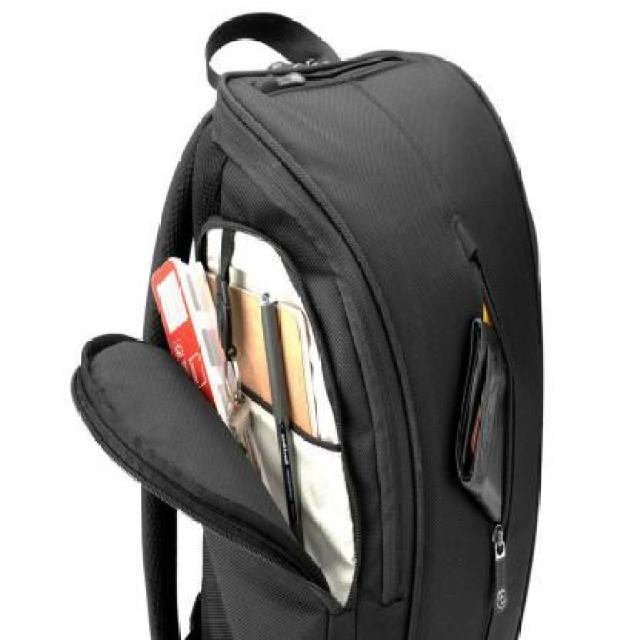backpack: (65, 3, 548, 640)
